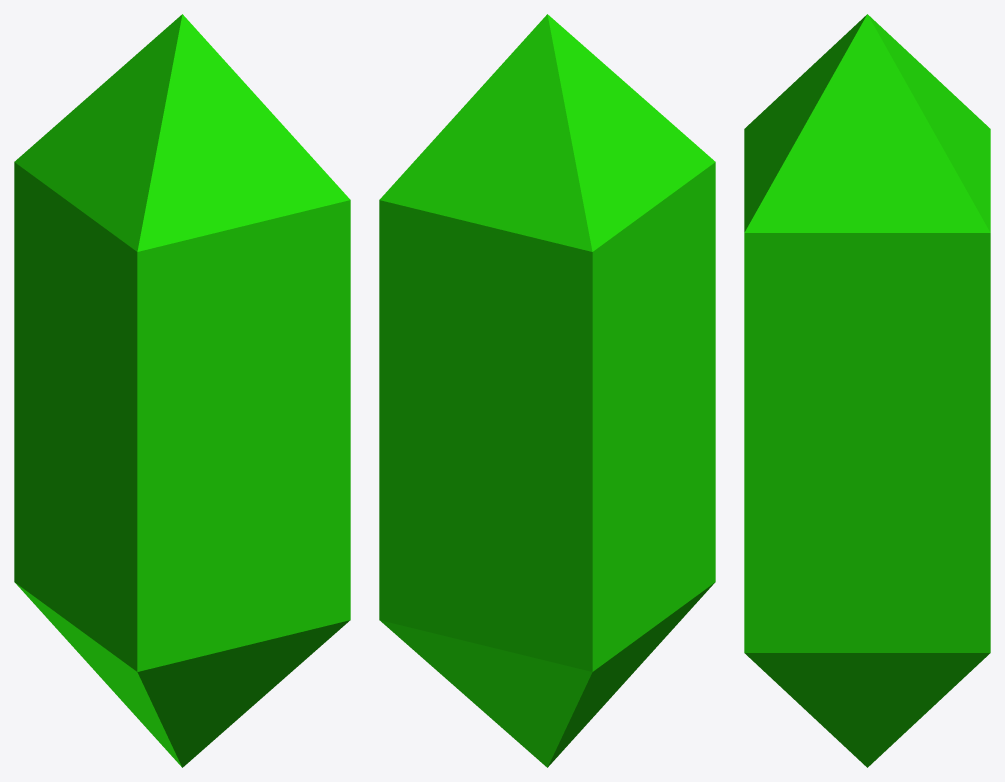
Rendered from obeliscoCristal.glb.
3 renders of one model, left to right at view 1: azimuth 30°, elevation 25°; view 2: azimuth 150°, elevation 25°; view 3: azimuth 270°, elevation 25°, orthographic.
Parts seen in each view (by area): view 1: cristallObelisco; view 2: cristallObelisco; view 3: cristallObelisco.
Part boxes in pixels (box(x1,y1,x2,y2)): cristallObelisco: box(14, 14, 350, 767); cristallObelisco: box(379, 14, 715, 767); cristallObelisco: box(744, 14, 990, 767).
Bounding box in the file's own units: 0.51 × 1.72 × 0.51.
